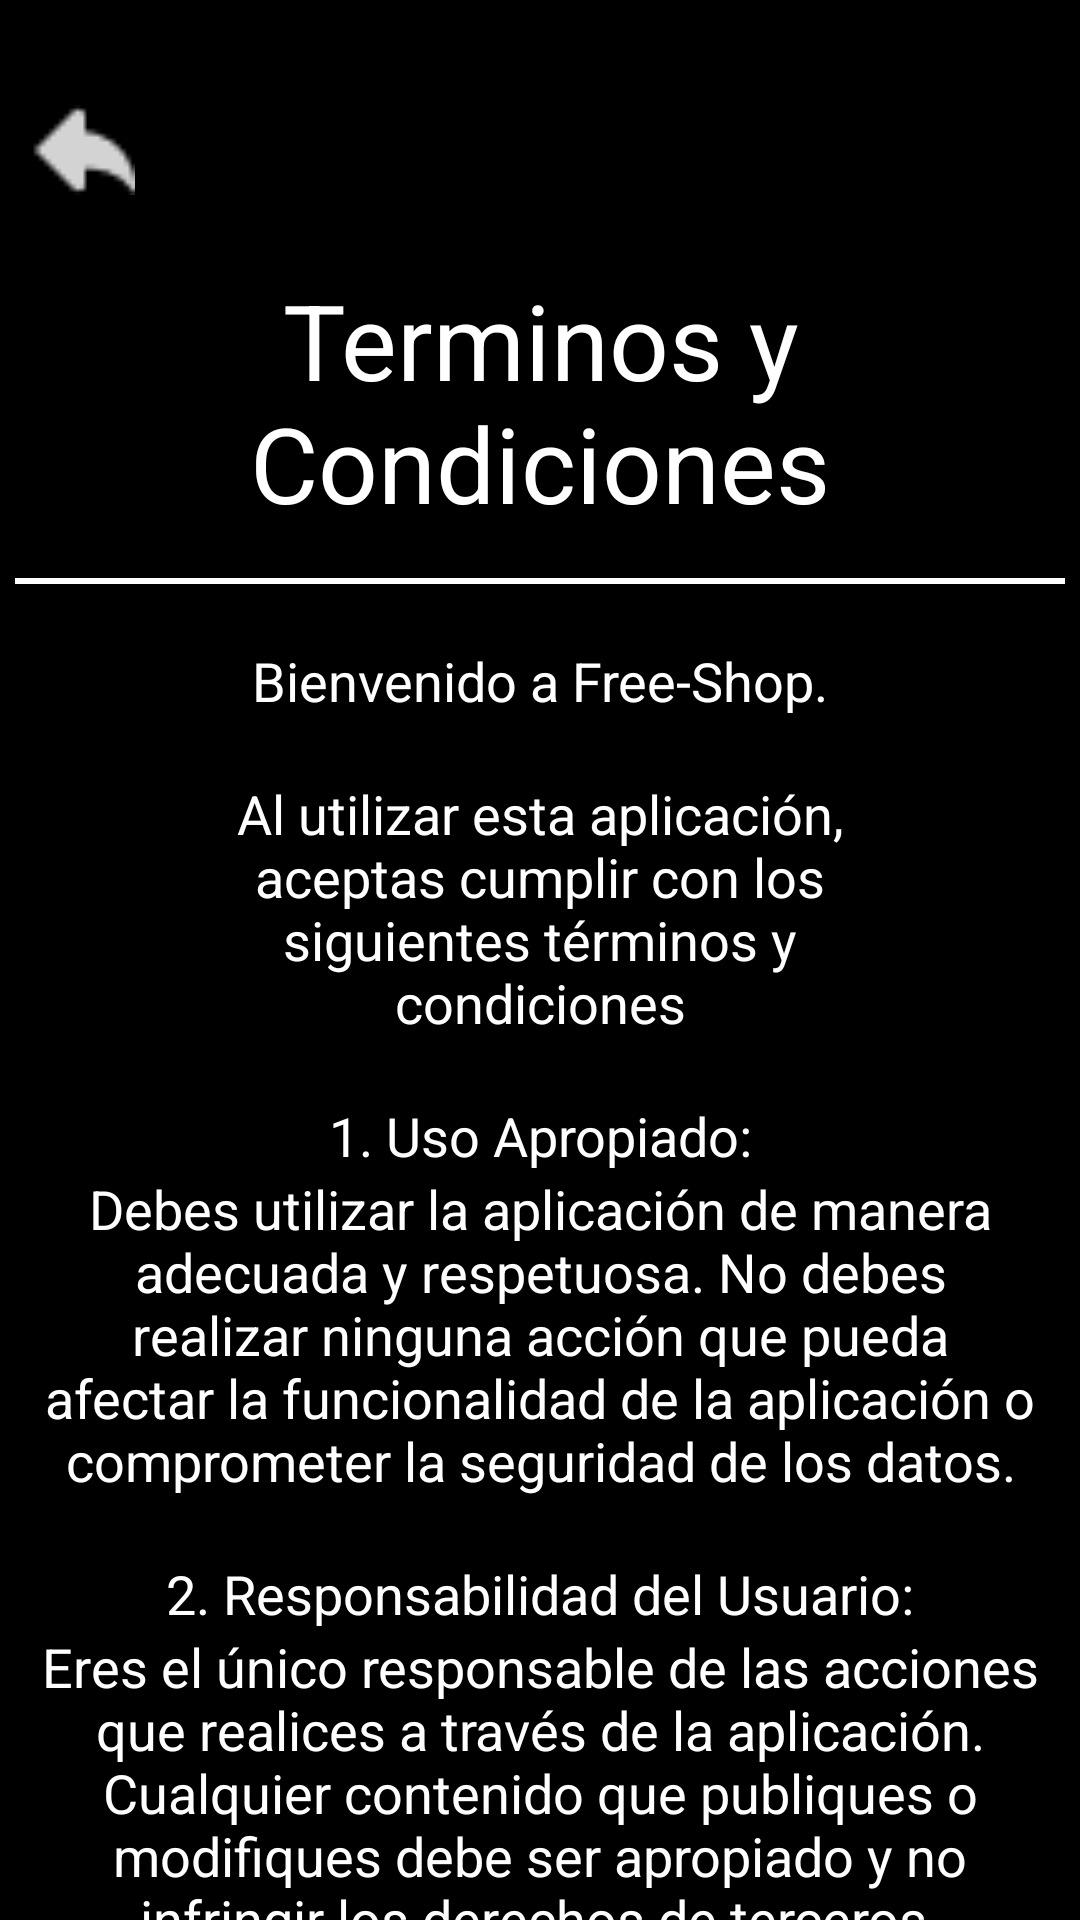

Screen size 1080 × 1920. Icon name, then its center in pixels as point (x, y):
back: point (84, 151)
